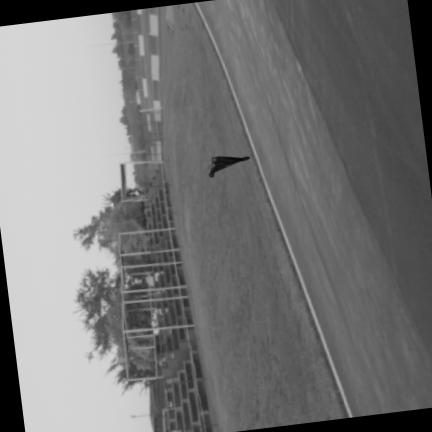Shahed: (207, 155, 248, 175)
